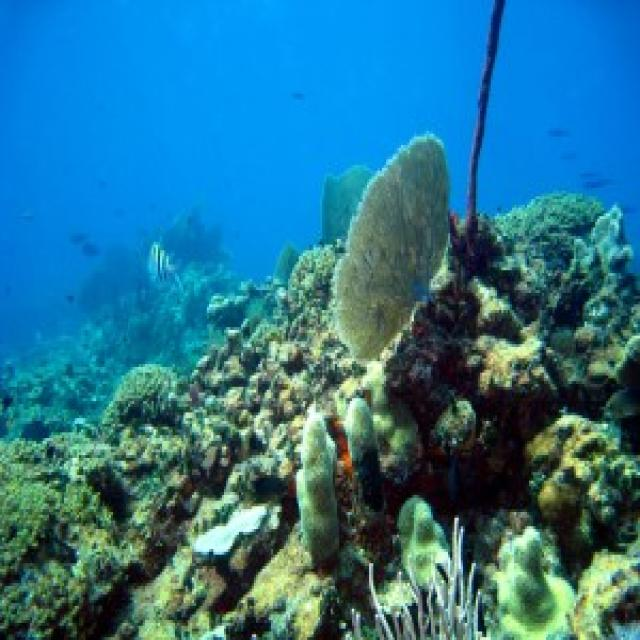Healthy: (302, 194, 639, 573), (114, 334, 396, 638), (1, 368, 204, 638), (336, 138, 449, 359), (490, 527, 639, 638), (370, 519, 485, 638), (221, 342, 302, 465)
